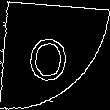O_N: (33, 27, 77, 83)
